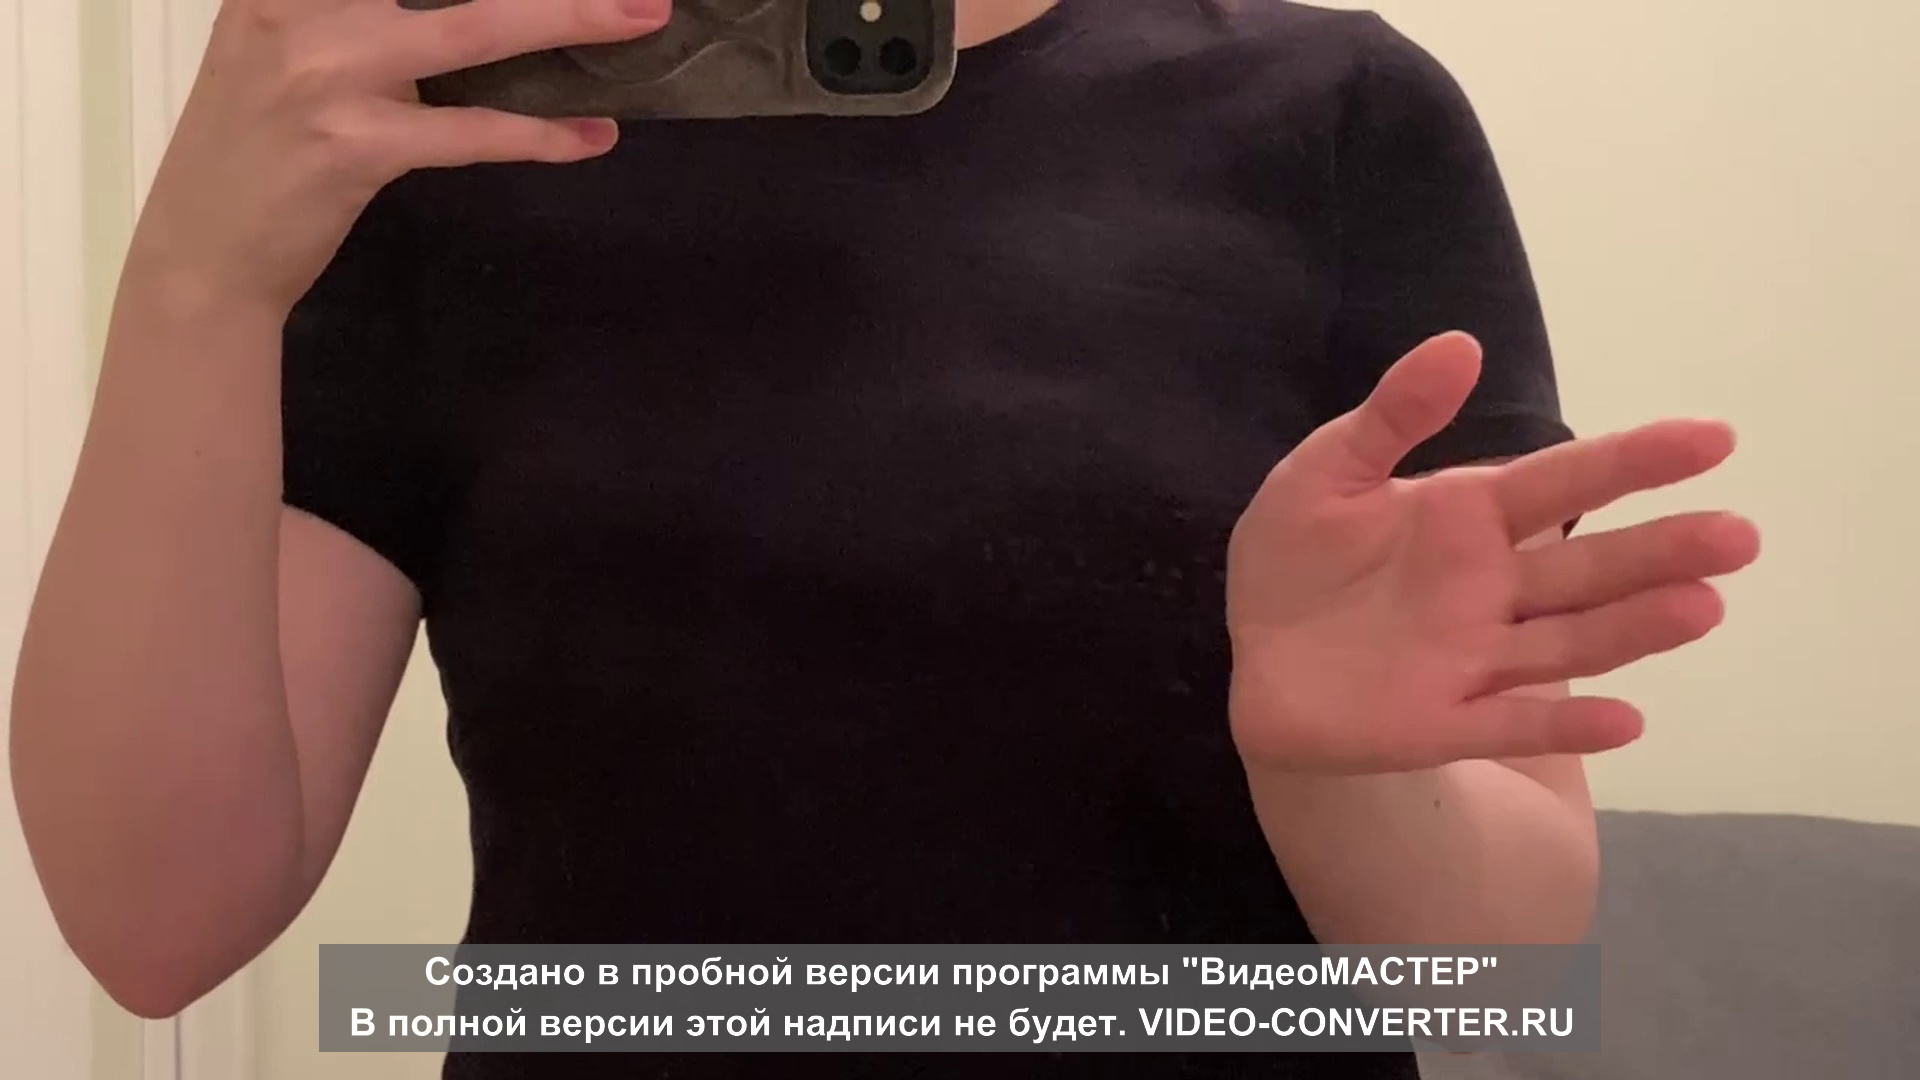Ладонь: (1226, 332, 1762, 756)
